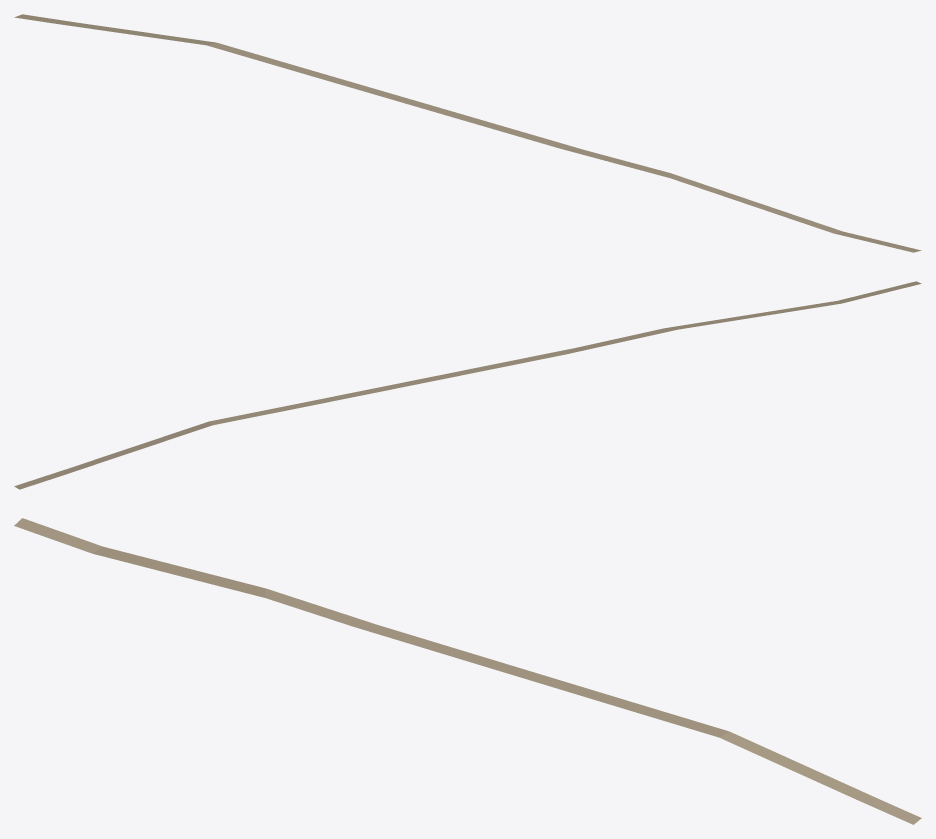
The model's file is farm_-29_-33_track.glb.
The picture shows the model from 3 angles, top to bottom: view 1: azimuth 90°, elevation 25°; view 2: azimuth 150°, elevation 25°; view 3: azimuth 270°, elevation 25°; orthographic projection. The views are drawn at different scales.
Visible parts, largest first — view 1: geometry_0; view 2: geometry_0; view 3: geometry_0.
Part boxes in pixels (x1,y1,x2,y2): geometry_0: (14,14,921,252); geometry_0: (14,281,921,489); geometry_0: (14,518,921,824).
Bounding box in the file's own units: 145 × 9.01 × 204.
